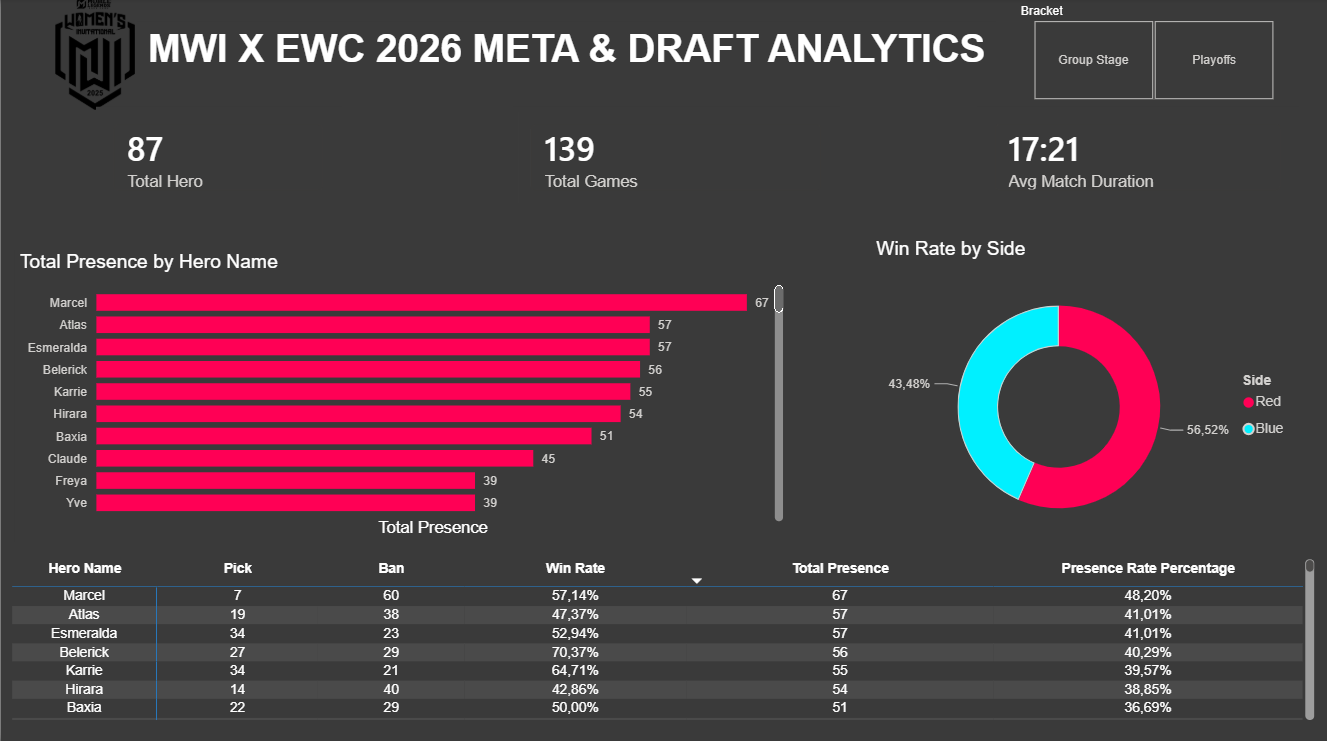

This screenshot's page, from the dashboard's own definition file:
{"tool":"powerbi","page":{"name":"Cracking The Meta","canvas":[1280,720],"ordinal":0},"visuals":[{"type":"image","box":[1.2,0,179.8,107.6],"z":0},{"type":"textbox","box":[132.1,23.2,829.1,61.1],"z":1000},{"type":"slicer","fields":{"Values":["data_mwi_2026.Tahap_Turnamen"]},"box":[971.2,0,281.1,105],"z":2000},{"type":"cardVisual","fields":{"Data":["MWI_META_RESULT.Total Hero"]},"box":[91.7,105,236.5,98.9],"z":3000},{"type":"cardVisual","fields":{"Data":["data_mwi_2026.Total Games"]},"box":[494.6,105,314.9,98.9],"z":4000},{"type":"cardVisual","fields":{"Data":["data_mwi_2026.Avg Match Duration"]},"box":[942.2,105,310.1,98.9],"z":5000},{"type":"clusteredBarChart","fields":{"Category":["MWI_META_RESULT.hero_name"],"Y":["Max(MWI_META_RESULT.Total Presence)"]},"box":[13.3,243.7,746.8,281.1],"z":6000},{"type":"donutChart","fields":{"Y":["data_mwi_2026.Win Rate Side %"],"Category":["data_mwi_2026.Side"]},"box":[840.1,231.1,412.1,305.7],"z":7000},{"type":"pivotTable","fields":{"Values":["Min(MWI_META_RESULT.Pick)","Min(MWI_META_RESULT.Ban)","Min(MWI_META_RESULT.Win Rate)","Min(MWI_META_RESULT.Total Presence)","Min(MWI_META_RESULT.Presence Rate Percentage)"],"Rows":["MWI_META_RESULT.hero_name"]},"box":[6,536.9,1266.8,165.3],"z":8000}]}

Visuals, with their boxes in screenshot pixels (x1, y1, x2, y2), scaled from the page's 1280x720 canvas onto the 1327x741 screenshot:
image: [1,0,188,111]
textbox: [137,24,996,87]
slicer - data_mwi_2026.Tahap_Turnamen: [1007,0,1298,108]
cardVisual - MWI_META_RESULT.Total Hero: [95,108,340,210]
cardVisual - data_mwi_2026.Total Games: [513,108,839,210]
cardVisual - data_mwi_2026.Avg Match Duration: [977,108,1298,210]
clusteredBarChart - MWI_META_RESULT.hero_name x Max(MWI_META_RESULT.Total Presence): [14,251,788,540]
donutChart - data_mwi_2026.Win Rate Side % x data_mwi_2026.Side: [871,238,1298,552]
pivotTable - Min(MWI_META_RESULT.Pick) x Min(MWI_META_RESULT.Ban): [6,553,1320,723]
